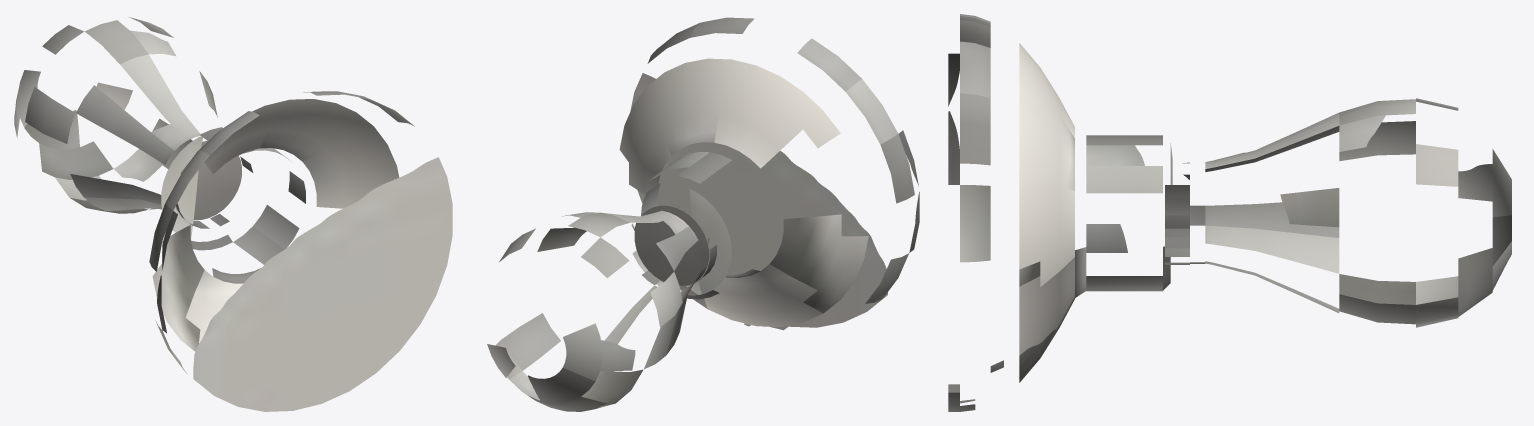
File: wall_off.obj
The picture shows the model from 3 angles, left to right: view 1: azimuth 30°, elevation 25°; view 2: azimuth 150°, elevation 25°; view 3: azimuth 270°, elevation 25°; orthographic projection. The views are drawn at different scales.
Visible parts, largest first — view 1: wall_porcelain, wall_bulb_off; view 2: wall_porcelain, wall_bulb_off; view 3: wall_porcelain, wall_bulb_off, wall_shell.
Boxes of the visible parts, x1=… form: wall_porcelain: x1=149, y1=91, x2=452, y2=411; wall_bulb_off: x1=14, y1=17, x2=241, y2=220; wall_porcelain: x1=619, y1=17, x2=919, y2=330; wall_bulb_off: x1=487, y1=205, x2=708, y2=411; wall_porcelain: x1=948, y1=14, x2=1172, y2=411; wall_bulb_off: x1=1190, y1=98, x2=1511, y2=327; wall_shell: x1=1165, y1=162, x2=1189, y2=264.
Size of the model in its own units: 0.1035 by 0.1035 by 0.149.
